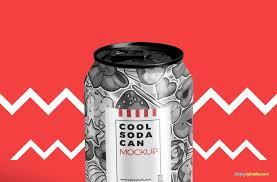Aluminum can: (73, 25, 196, 182)
